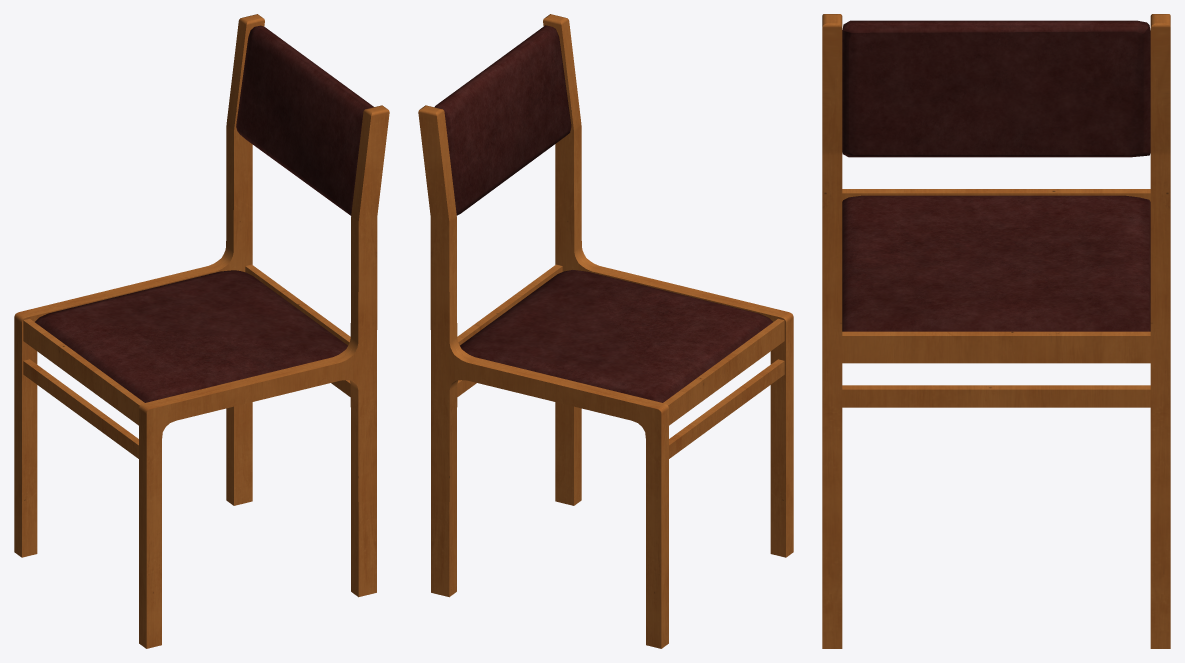
File: TeacherChair.fbx
3 views of the same model, side by side, from view 1: azimuth 30°, elevation 25°; view 2: azimuth 150°, elevation 25°; view 3: azimuth 270°, elevation 25° (orthographic). The views are drawn at different scales.
Parts seen in each view (by area): view 1: TeacherChair; view 2: TeacherChair; view 3: TeacherChair.
Part boxes in pixels (box(x1,y1,x2,y2)): TeacherChair: box(14, 14, 389, 648); TeacherChair: box(418, 14, 793, 648); TeacherChair: box(822, 14, 1170, 648).
Size of the model in its own units: 71.97 by 136 by 67.77.
Materials: 1 (1 with a texture image).
